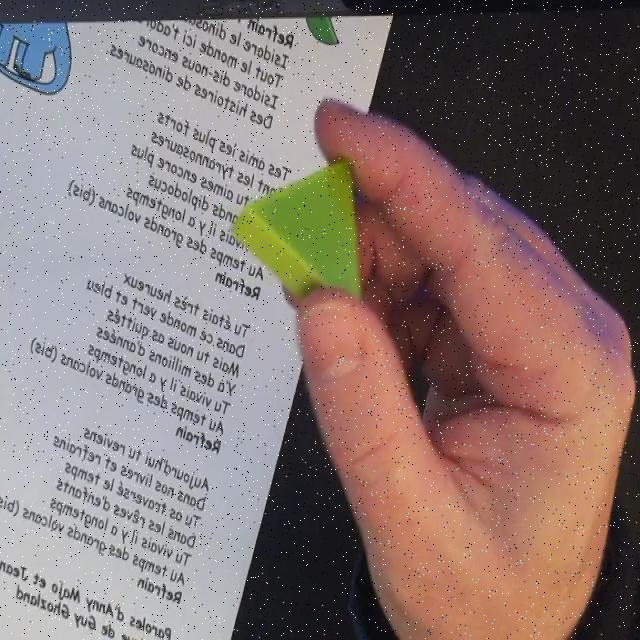triangle: (233, 156, 361, 321)
